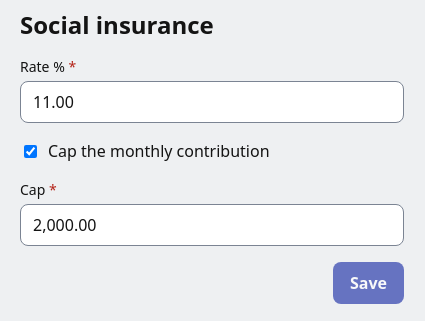
Scenario: Social insurance page - rate validation › formats the rate to 2 decimals on blur
This screenshot has width=425, height=321.
Replace the text in the field labelled "Rate % *" with "12.5" at (212, 102), box x1=20 y1=81 x2=404 y2=123
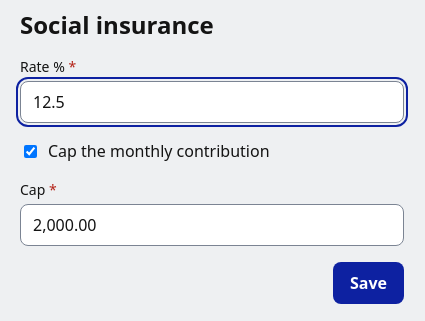
Press Tab
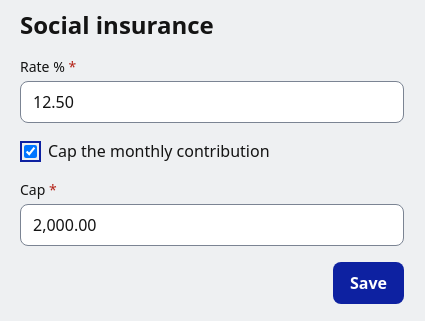
Expected: the field labelled "Rate % *" holds "12.50", x1=20 y1=81 x2=404 y2=123
